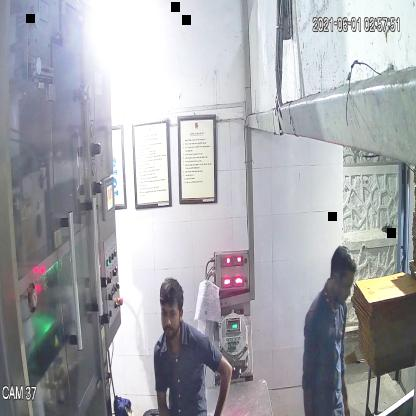no_goggles: (158, 304, 184, 324)
